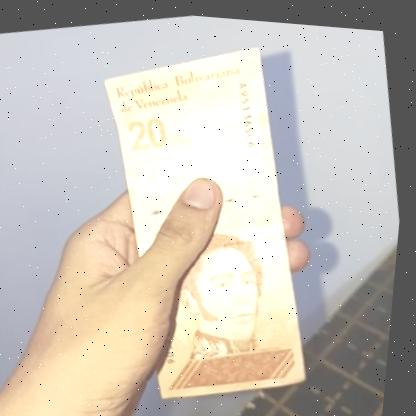twenty-front-vef: (82, 34, 335, 411)
